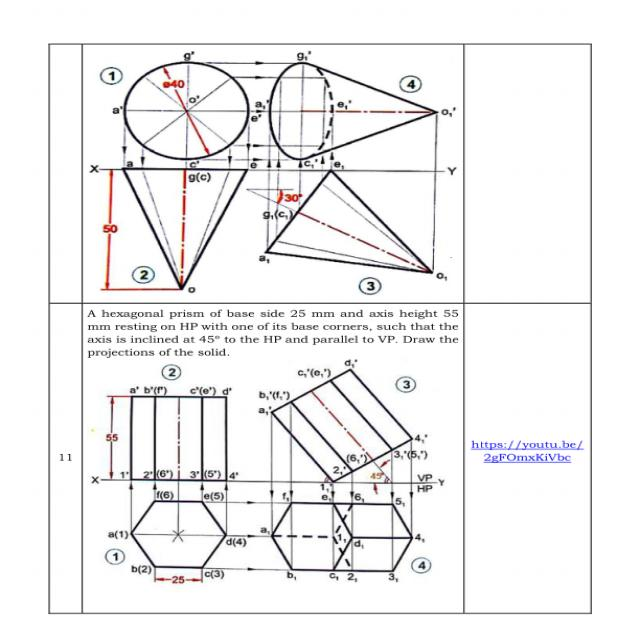Drawings: (87, 48, 459, 294), (90, 360, 456, 593)
